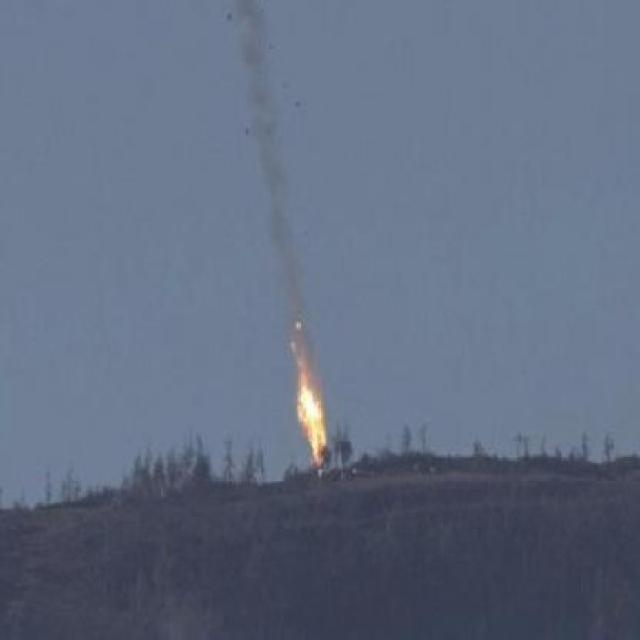Fire: (288, 318, 329, 471)
